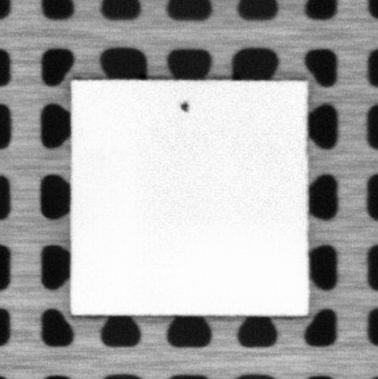DIE_INK: (179, 100, 189, 112)
